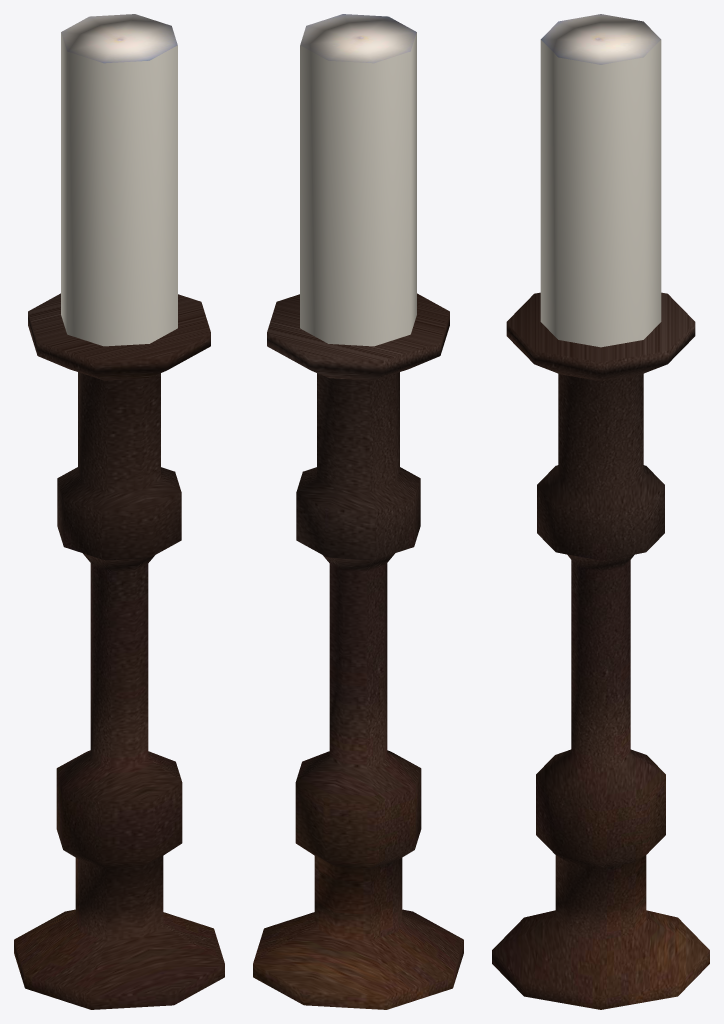
3 renders of one model, left to right at view 1: azimuth 30°, elevation 25°; view 2: azimuth 150°, elevation 25°; view 3: azimuth 270°, elevation 25°, orthographic.
Visible parts, largest first — view 1: pCylinder13; view 2: pCylinder13; view 3: pCylinder13.
Part boxes in pixels (x1,y1,x2,y2): pCylinder13: [14, 14, 224, 1009]; pCylinder13: [253, 14, 463, 1009]; pCylinder13: [492, 14, 709, 1009].
Size of the model in its own units: 0.1121 by 0.5251 by 0.1121.
1 material, 1 textured.
